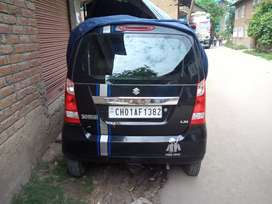CH01AF1382: (108, 105, 162, 118)
